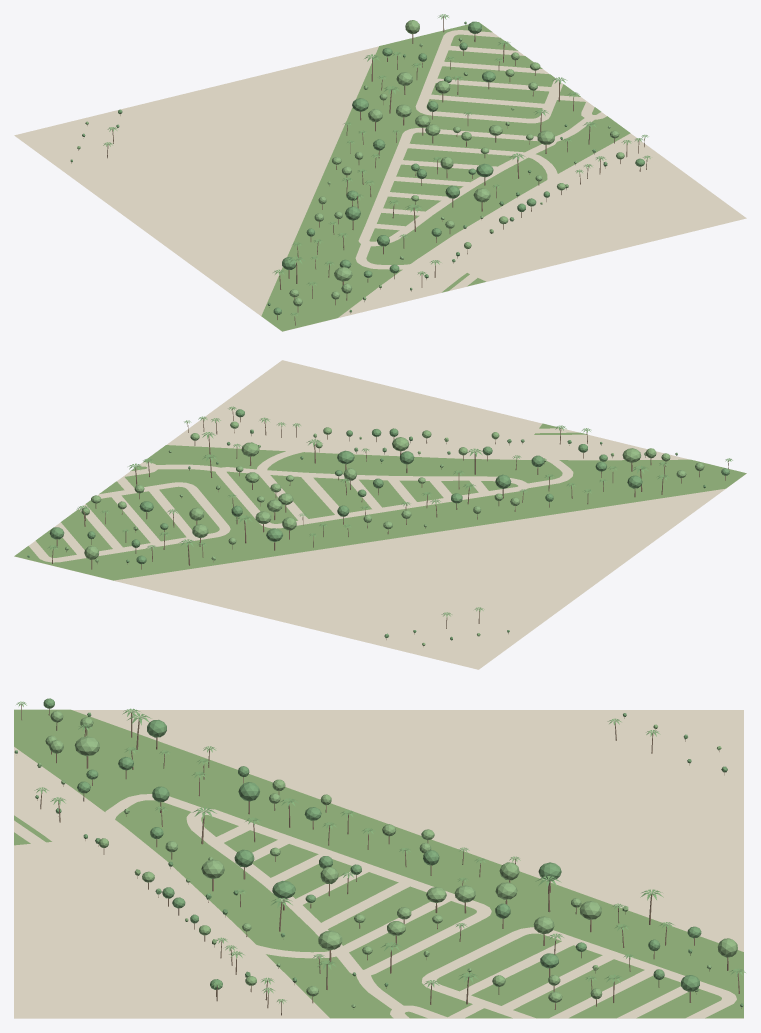
The model's file is nature_-5_4.glb.
3 views of the same model, one above another, from view 1: azimuth 30°, elevation 25°; view 2: azimuth 150°, elevation 25°; view 3: azimuth 270°, elevation 25° (orthographic). The views are drawn at different scales.
Visible parts, largest first — view 1: ground, grass, foliage_b, foliage_a, palm_leaf, trunk; view 2: ground, grass, foliage_b, foliage_a, palm_leaf, trunk; view 3: ground, grass, foliage_b, foliage_a, palm_leaf, trunk.
Boxes of the visible parts, box(x1,y1,x2,y2) form: ground: box(14, 30, 746, 331); grass: box(261, 22, 630, 331); foliage_b: box(77, 20, 624, 306); foliage_a: box(70, 21, 644, 314); palm_leaf: box(103, 14, 650, 316); trunk: box(71, 16, 647, 325); ground: box(14, 360, 746, 669); grass: box(14, 423, 746, 580); foliage_b: box(65, 421, 704, 645); foliage_a: box(27, 409, 729, 640); palm_leaf: box(47, 406, 732, 617); trunk: box(52, 408, 729, 646); ground: box(14, 710, 743, 1018); grass: box(14, 709, 743, 1018); foliage_b: box(37, 710, 737, 1007); foliage_a: box(14, 698, 743, 1006); palm_leaf: box(16, 701, 745, 1003); trunk: box(21, 704, 741, 1015).
Bounding box in the file's own units: 250 × 12.95 × 251.
